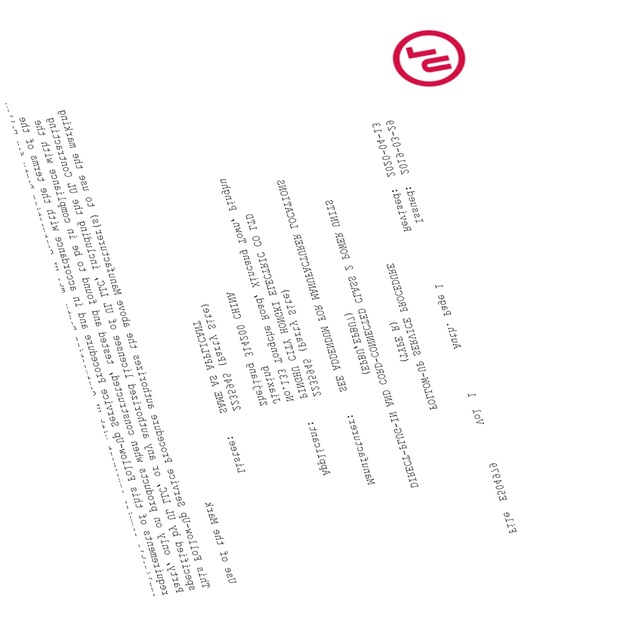ul: (392, 28, 467, 87)
